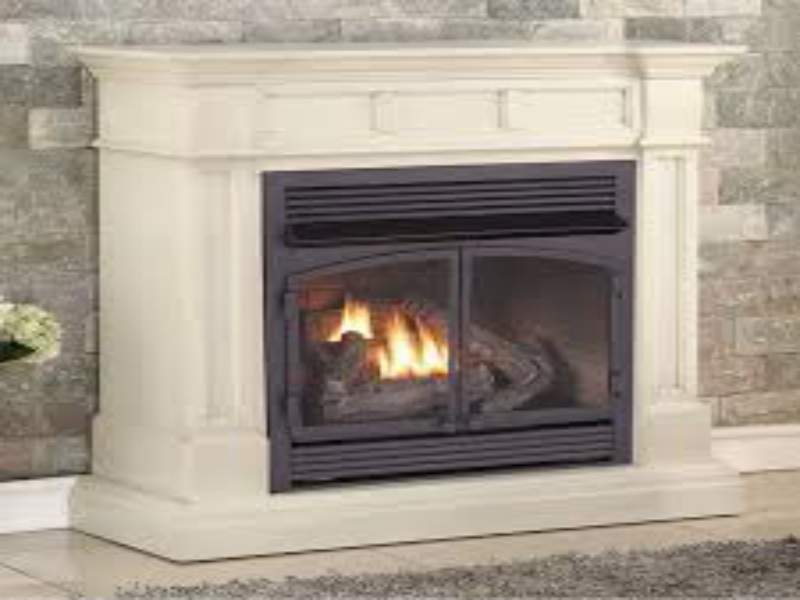fire: (378, 291, 450, 380), (337, 290, 371, 337)
